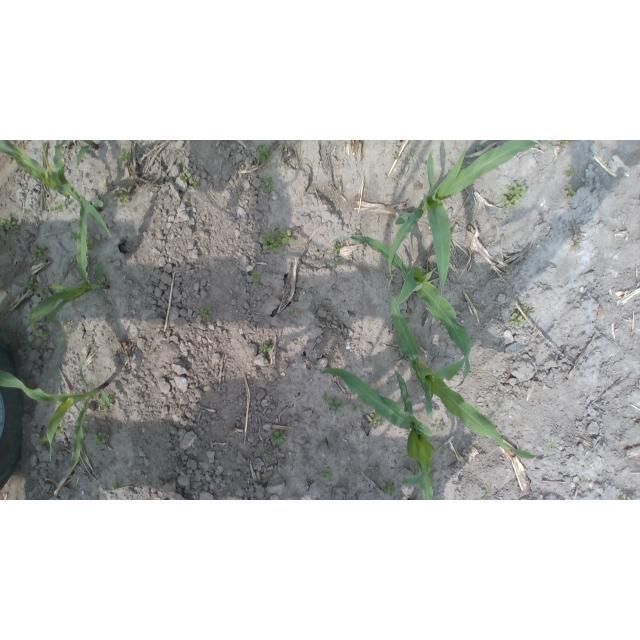Maize: (386, 271, 559, 462), (331, 233, 475, 390), (387, 140, 537, 290), (321, 367, 438, 500), (1, 353, 112, 464), (29, 186, 110, 337), (1, 140, 114, 238), (41, 141, 100, 184)
Weeds: (260, 227, 296, 254), (502, 182, 529, 210), (22, 276, 48, 297), (322, 392, 347, 413), (0, 215, 20, 235), (254, 143, 271, 166), (259, 176, 276, 195), (270, 429, 288, 445), (508, 313, 527, 328), (331, 240, 341, 268), (113, 190, 131, 205), (92, 431, 108, 446), (49, 200, 66, 214), (32, 245, 49, 259), (118, 148, 132, 164), (321, 467, 335, 483), (369, 412, 383, 428), (564, 184, 576, 201), (55, 419, 65, 438), (383, 482, 396, 496), (198, 308, 212, 321), (521, 303, 536, 315), (252, 269, 264, 284), (434, 420, 447, 432), (259, 341, 272, 353), (563, 165, 575, 177), (86, 237, 96, 251), (619, 492, 636, 500), (191, 177, 202, 189), (62, 320, 73, 330), (101, 275, 112, 285), (112, 478, 120, 491), (179, 173, 192, 180), (40, 435, 49, 445), (481, 491, 491, 500), (83, 380, 93, 389), (68, 232, 76, 243), (392, 152, 401, 161), (108, 393, 116, 403), (352, 404, 360, 413), (99, 401, 106, 411), (288, 308, 296, 316), (574, 240, 581, 249), (61, 334, 70, 341), (263, 451, 273, 457), (564, 140, 573, 145), (631, 334, 638, 340), (184, 187, 190, 192)
